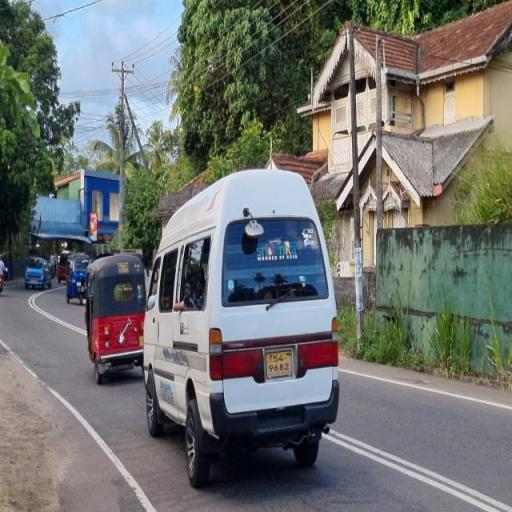double_white_line: (327, 425, 510, 510), (29, 291, 83, 336)
